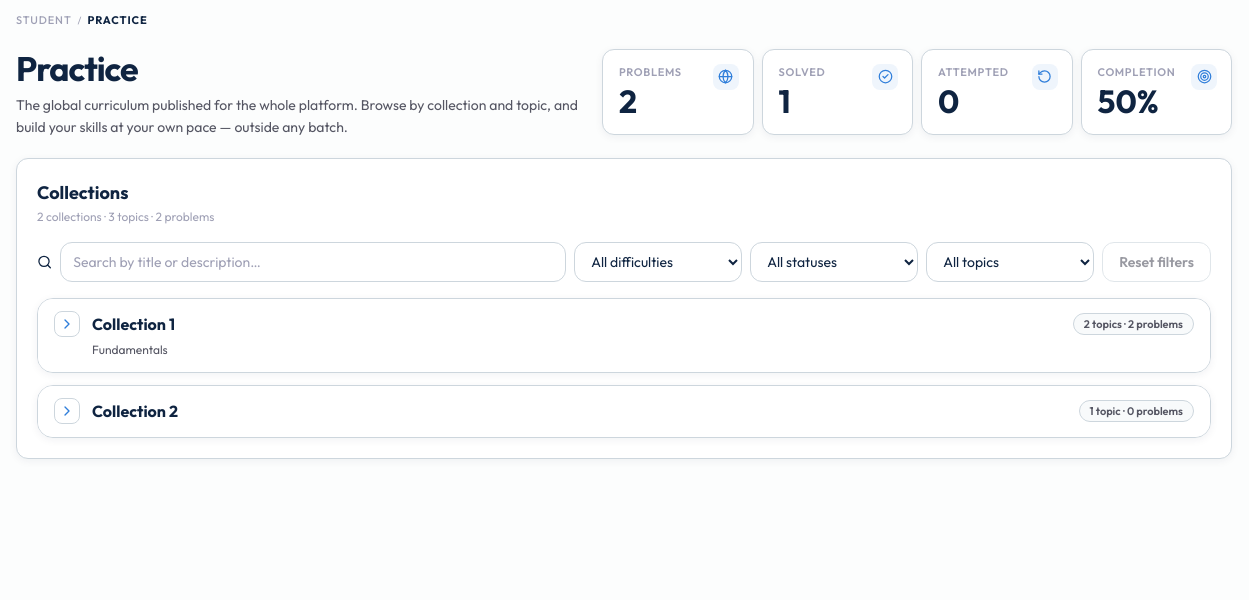
Test: topic rows show the real problem count
Check: the text "Collection 1" is shown, box [92,314,175,334]
Click the button "Collection 1 2 topics · 2 problems" at {"x": 134, "y": 324}, box [54,311,1194,337]
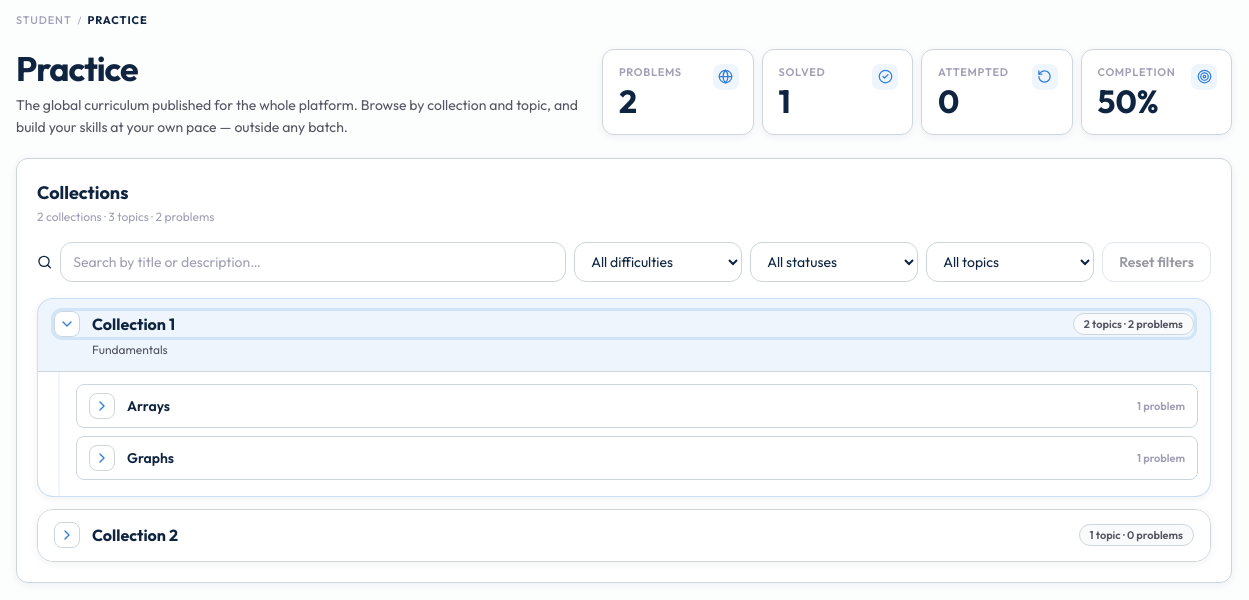
Check: the button "Arrays 1 problem" is shown, box [89,393,1185,419]
Check: the button "Graphs 1 problem" is shown, box [89,445,1185,471]
